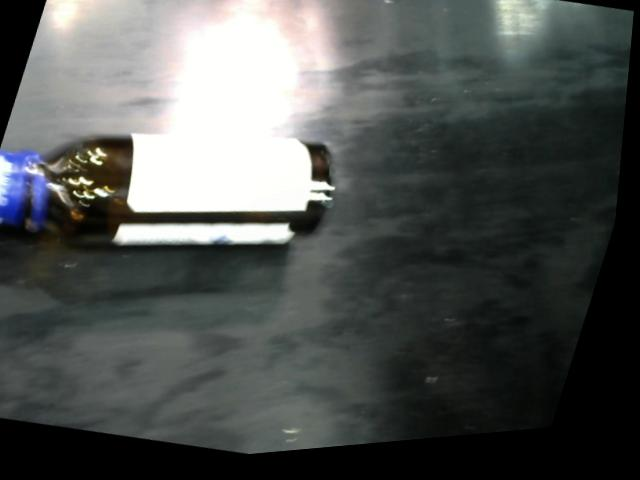glass: (0, 131, 344, 263)
